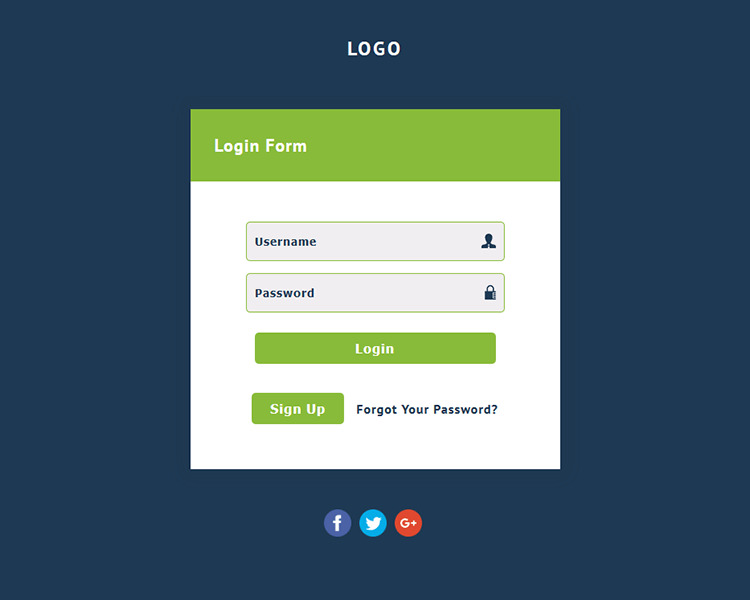_form_: (163, 85, 579, 501)
button: (254, 330, 498, 366), (250, 392, 347, 426)
field: (244, 220, 507, 263), (244, 272, 506, 313)
